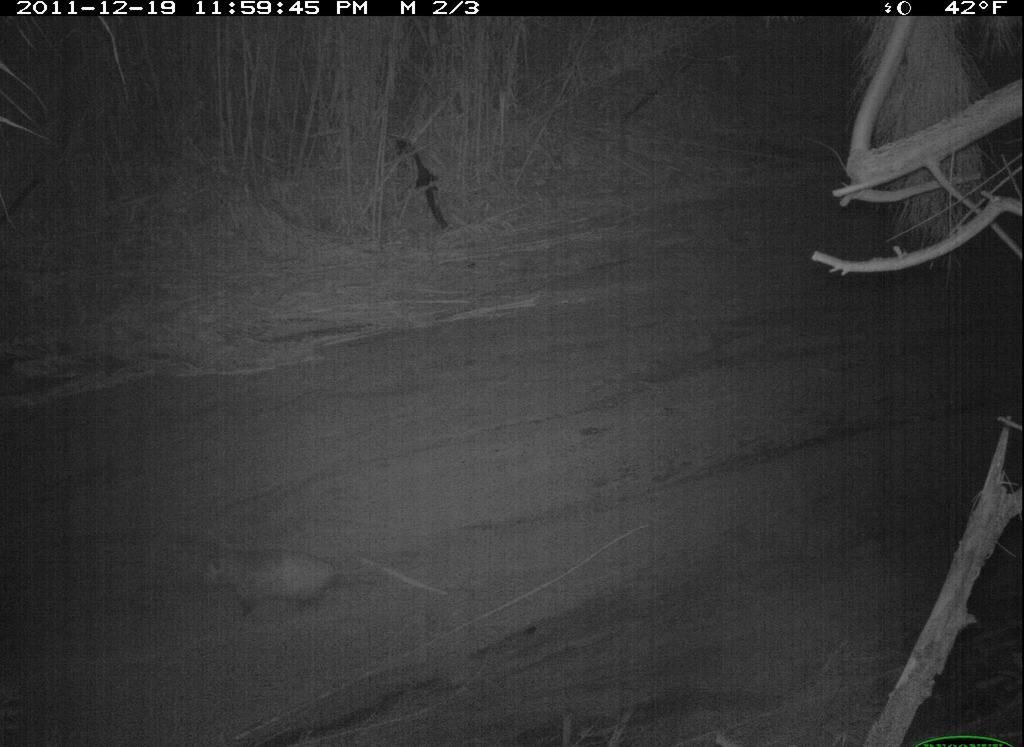opossum: (178, 532, 434, 628)
